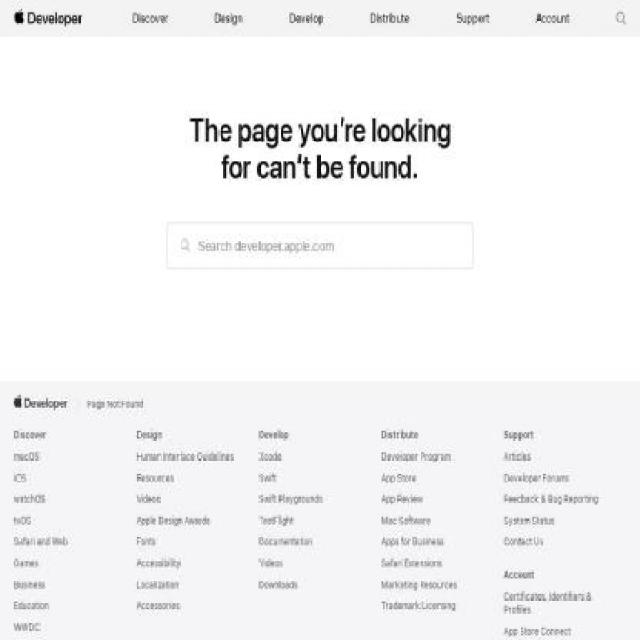button: (8, 0, 92, 37), (364, 0, 416, 37), (126, 0, 174, 37), (282, 0, 330, 37), (529, 0, 577, 37), (450, 0, 496, 37), (208, 0, 249, 37)
field: (167, 222, 473, 270)
